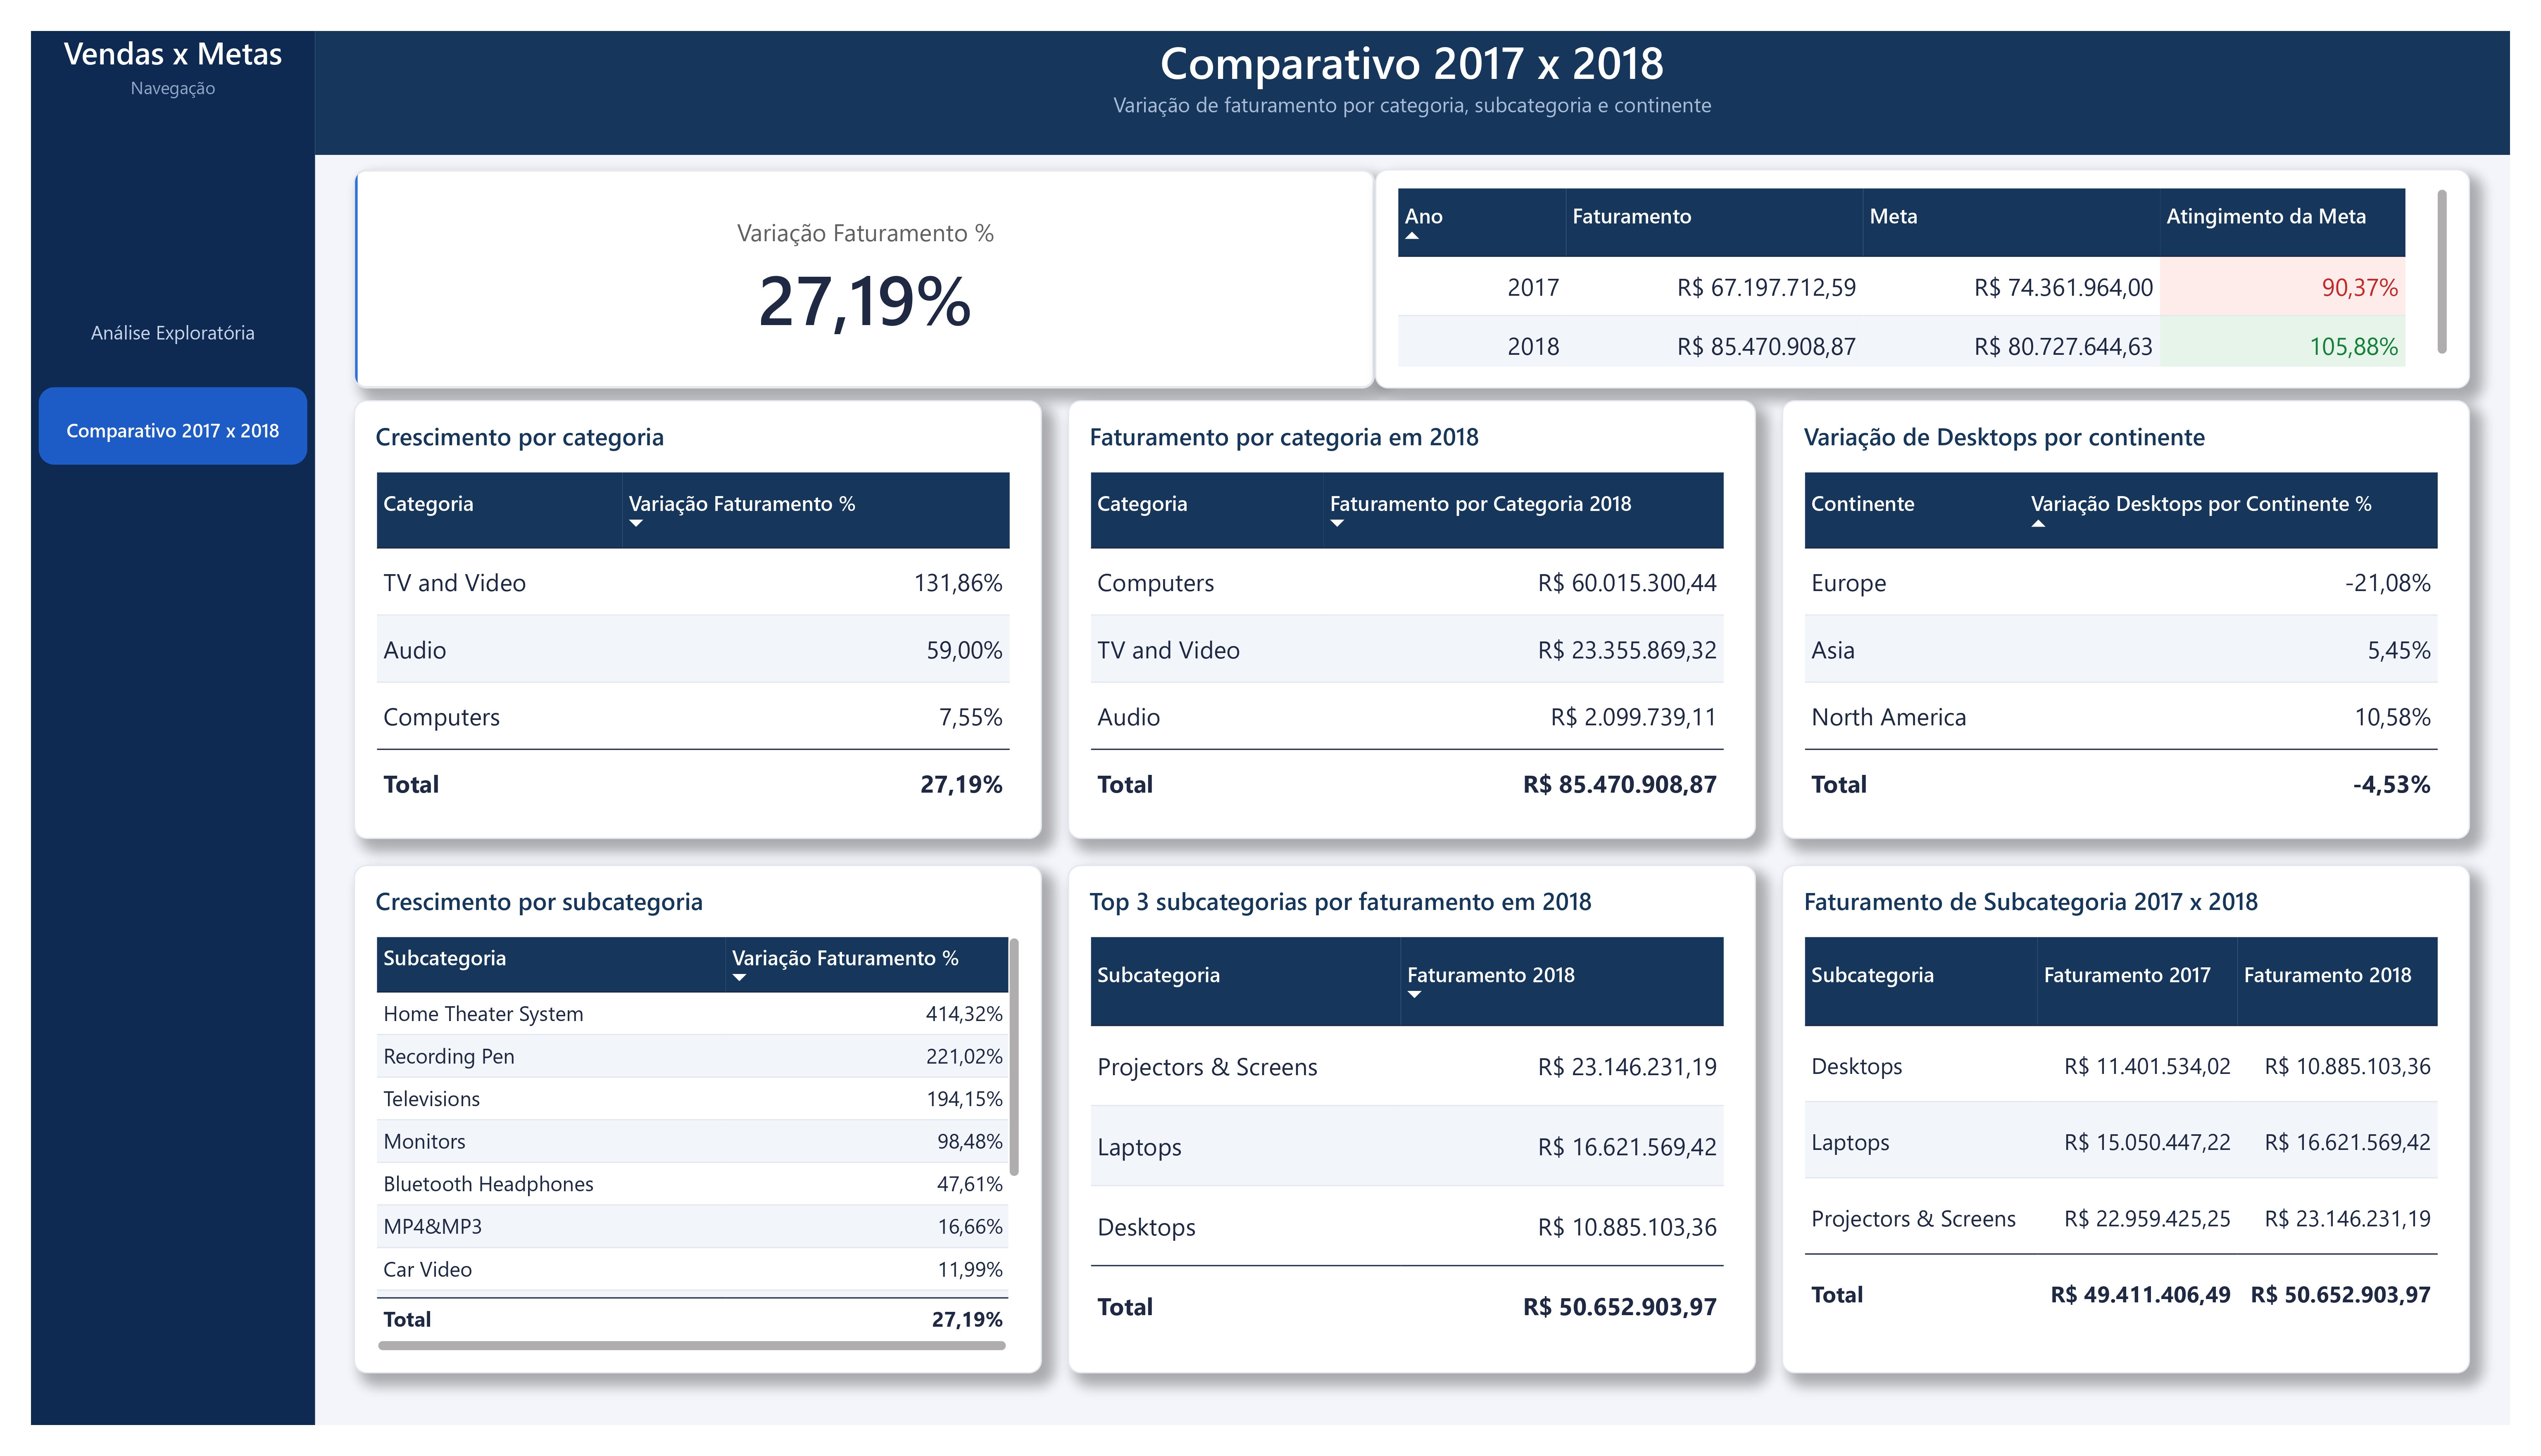

The page's visual inventory and layout, read from the dashboard file:
{"tool":"powerbi","page":{"name":"02 - Comparativo 2017 x 2018","canvas":[1920,1080],"ordinal":1},"visuals":[{"type":"cardVisual","fields":{"Data":["Vendas.Variação Faturamento %"]},"box":[249.7,106.8,790.8,170.1],"z":0},{"type":"tableEx","title":"Crescimento por subcategoria","fields":{"Values":["Subcategoria.Subcategoria","Vendas.Variação Faturamento %"]},"box":[250,646,533,394],"z":1000},{"type":"tableEx","fields":{"Values":["DimAno.Ano","Vendas.Faturamento Total","Vendas.Meta Total","Vendas.% Atingimento da Meta"]},"box":[1040.6,106.8,848.7,170.1],"z":2000},{"type":"tableEx","title":"Variação de Desktops por continente","fields":{"Values":["DimContinente.Continente","Vendas.Variação Desktops por Continente %"]},"box":[1356,286,533,340],"z":3000},{"type":"tableEx","title":"Faturamento por categoria em 2018","fields":{"Values":["Subcategoria.Categoria","Vendas.Faturamento por Categoria 2018"]},"box":[803,286,533,340],"z":4000},{"type":"tableEx","title":"Crescimento por categoria","fields":{"Values":["DimCategoria.Categoria","Vendas.Variação Faturamento %"]},"box":[250,286,533,340],"z":5000},{"type":"tableEx","title":"Top 3 subcategorias por faturamento em 2018","fields":{"Values":["Subcategoria.Subcategoria","Vendas.Faturamento 2018"]},"box":[803,646,533,394],"z":6000},{"type":"textbox","box":[220,0,1700,96],"z":6001},{"type":"tableEx","title":"Faturamento de Subcategoria 2017 x 2018","fields":{"Values":["Subcategoria.Subcategoria","Vendas.Faturamento 2017","Vendas.Faturamento 2018"]},"box":[1356,646,533,394],"z":7000},{"type":"textbox","box":[0,0,220,1080],"z":7500},{"type":"textbox","box":[6,200,208,60],"z":8000},{"type":"actionButton","box":[6,200,208,60],"z":8001},{"type":"textbox","box":[6,276,208,60],"z":8002},{"type":"actionButton","box":[6,276,208,60],"z":8003}]}

Visuals, with their boxes on the page's 1920x1080 design canvas (x1, y1, x2, y2). These are canvas units, not pixel positions in the 2541x1456 screenshot, which may show the page scaled, cropped or inside an application window:
cardVisual - Vendas.Variação Faturamento %: (x1=250, y1=107, x2=1040, y2=277)
"Crescimento por subcategoria" tableEx: (x1=250, y1=646, x2=783, y2=1040)
tableEx - DimAno.Ano x Vendas.Faturamento Total: (x1=1041, y1=107, x2=1889, y2=277)
"Variação de Desktops por continente" tableEx: (x1=1356, y1=286, x2=1889, y2=626)
"Faturamento por categoria em 2018" tableEx: (x1=803, y1=286, x2=1336, y2=626)
"Crescimento por categoria" tableEx: (x1=250, y1=286, x2=783, y2=626)
"Top 3 subcategorias por faturamento em 2018" tableEx: (x1=803, y1=646, x2=1336, y2=1040)
textbox: (x1=220, y1=0, x2=1920, y2=96)
"Faturamento de Subcategoria 2017 x 2018" tableEx: (x1=1356, y1=646, x2=1889, y2=1040)
textbox: (x1=0, y1=0, x2=220, y2=1080)
textbox: (x1=6, y1=200, x2=214, y2=260)
actionButton: (x1=6, y1=200, x2=214, y2=260)
textbox: (x1=6, y1=276, x2=214, y2=336)
actionButton: (x1=6, y1=276, x2=214, y2=336)
